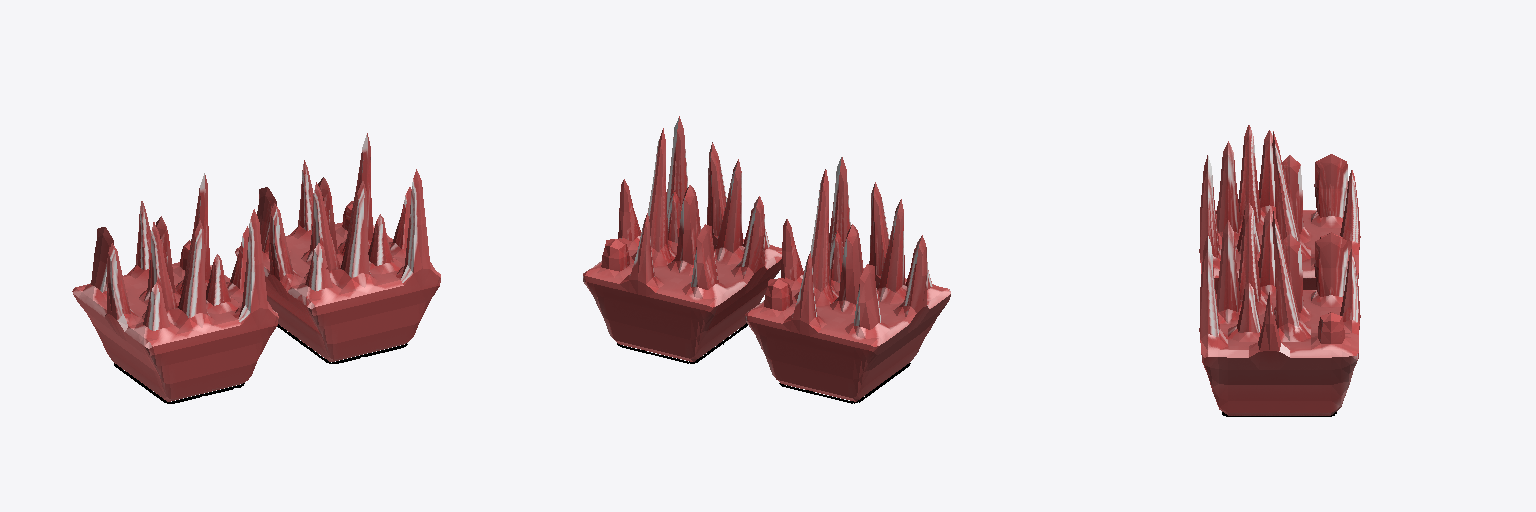
3 renders of one model, left to right at view 1: azimuth 30°, elevation 25°; view 2: azimuth 150°, elevation 25°; view 3: azimuth 270°, elevation 25°, orthographic.
Visible parts, largest first — view 1: solid, shadow; view 2: solid, shadow; view 3: solid.
Part boxes in pixels (x1,y1,x2,y2): solid: (72,133,440,401); shadow: (114,324,407,403); solid: (583,116,950,401); shadow: (617,323,910,403); solid: (1199,125,1360,415).
Size of the model in its own units: 0.5718 by 0.3349 by 0.2771.
Materials: 1 (1 with a texture image).